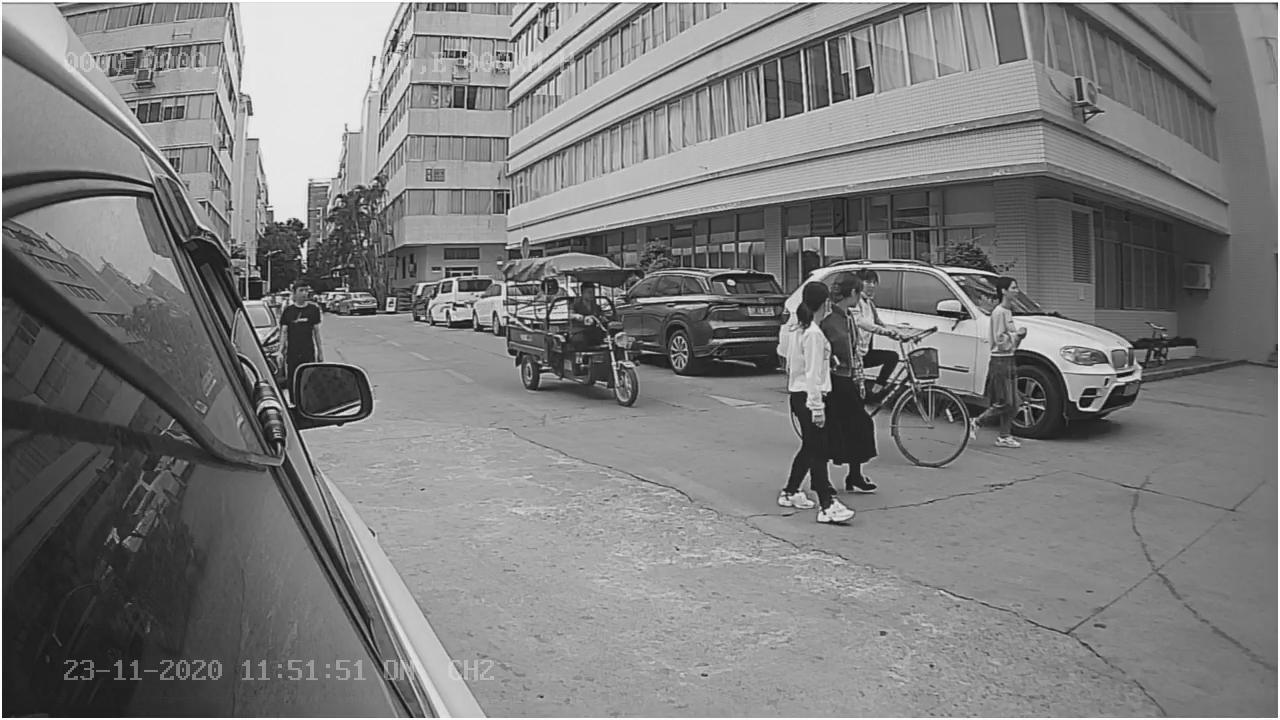person: (772, 283, 859, 529), (967, 271, 1034, 457)
